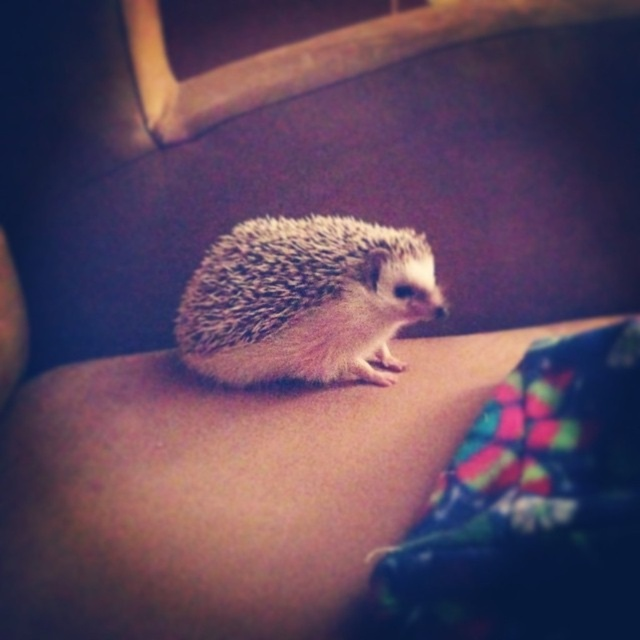Hedgehog: (179, 213, 453, 383)
